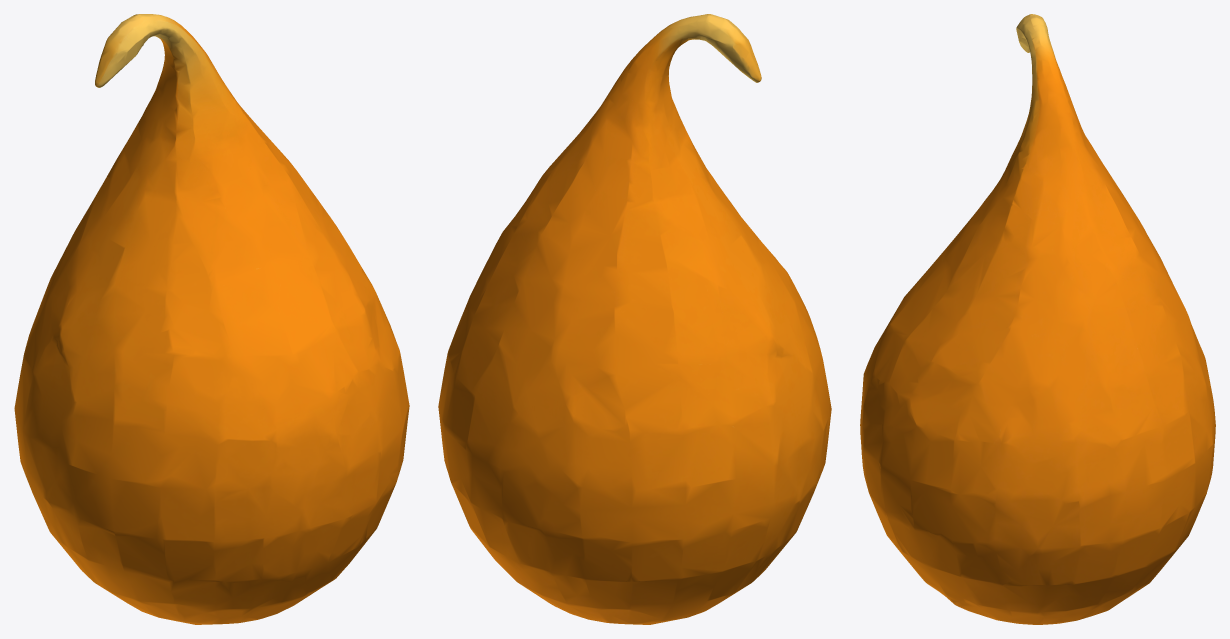
The model's file is Prop_FattyAcid.glb.
3 views of the same model, side by side, from view 1: azimuth 30°, elevation 25°; view 2: azimuth 150°, elevation 25°; view 3: azimuth 270°, elevation 25° (orthographic). The views are drawn at different scales.
Size of the model in its own units: 1.08 by 1.9 by 1.09.
1 material, 1 textured.
